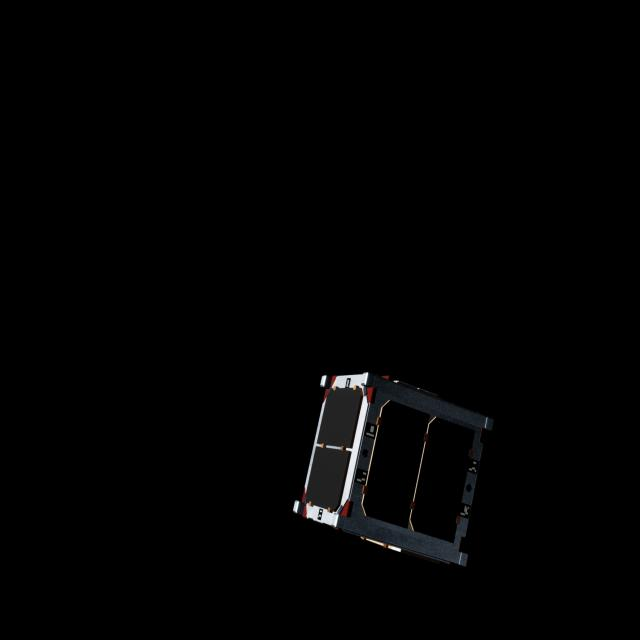medium_debris: (285, 358, 501, 572)
